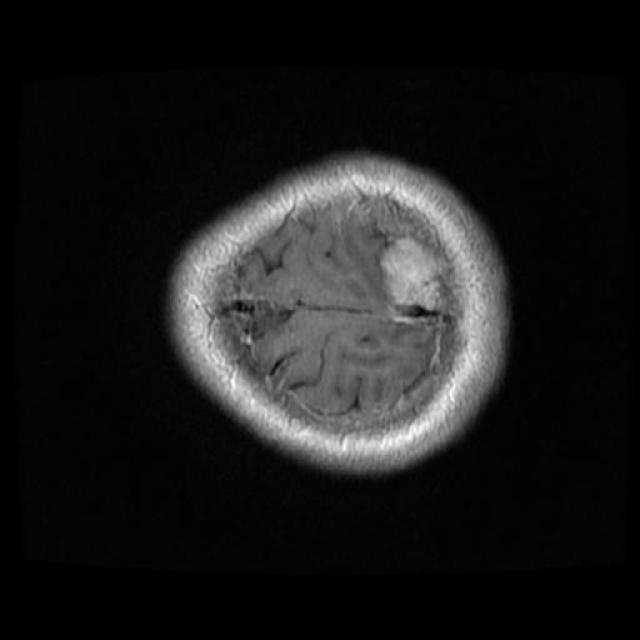Meningioma: (381, 237, 450, 324)
